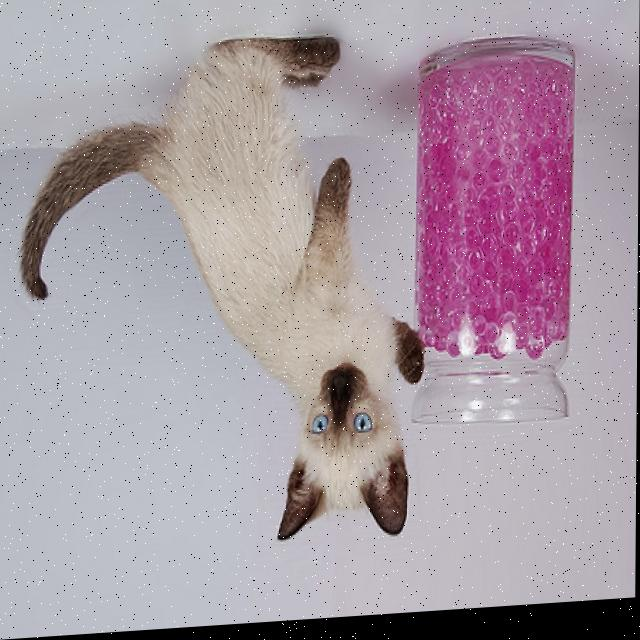Siamese: (16, 30, 428, 566)
